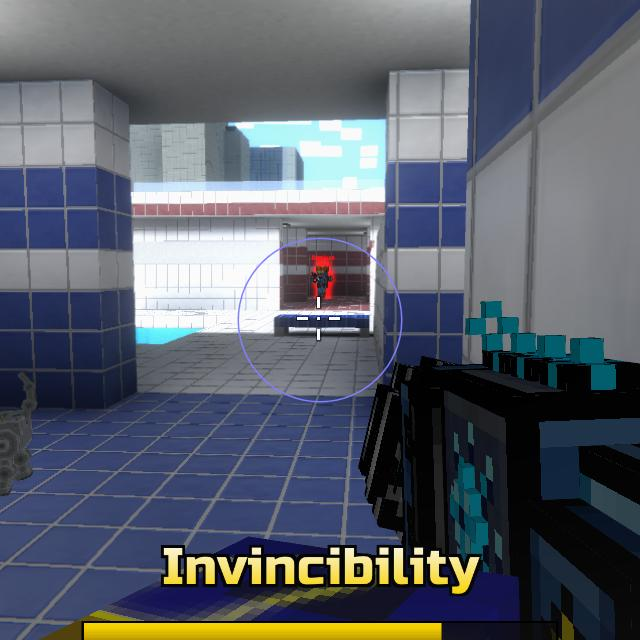Enemy: (310, 267, 333, 299)
